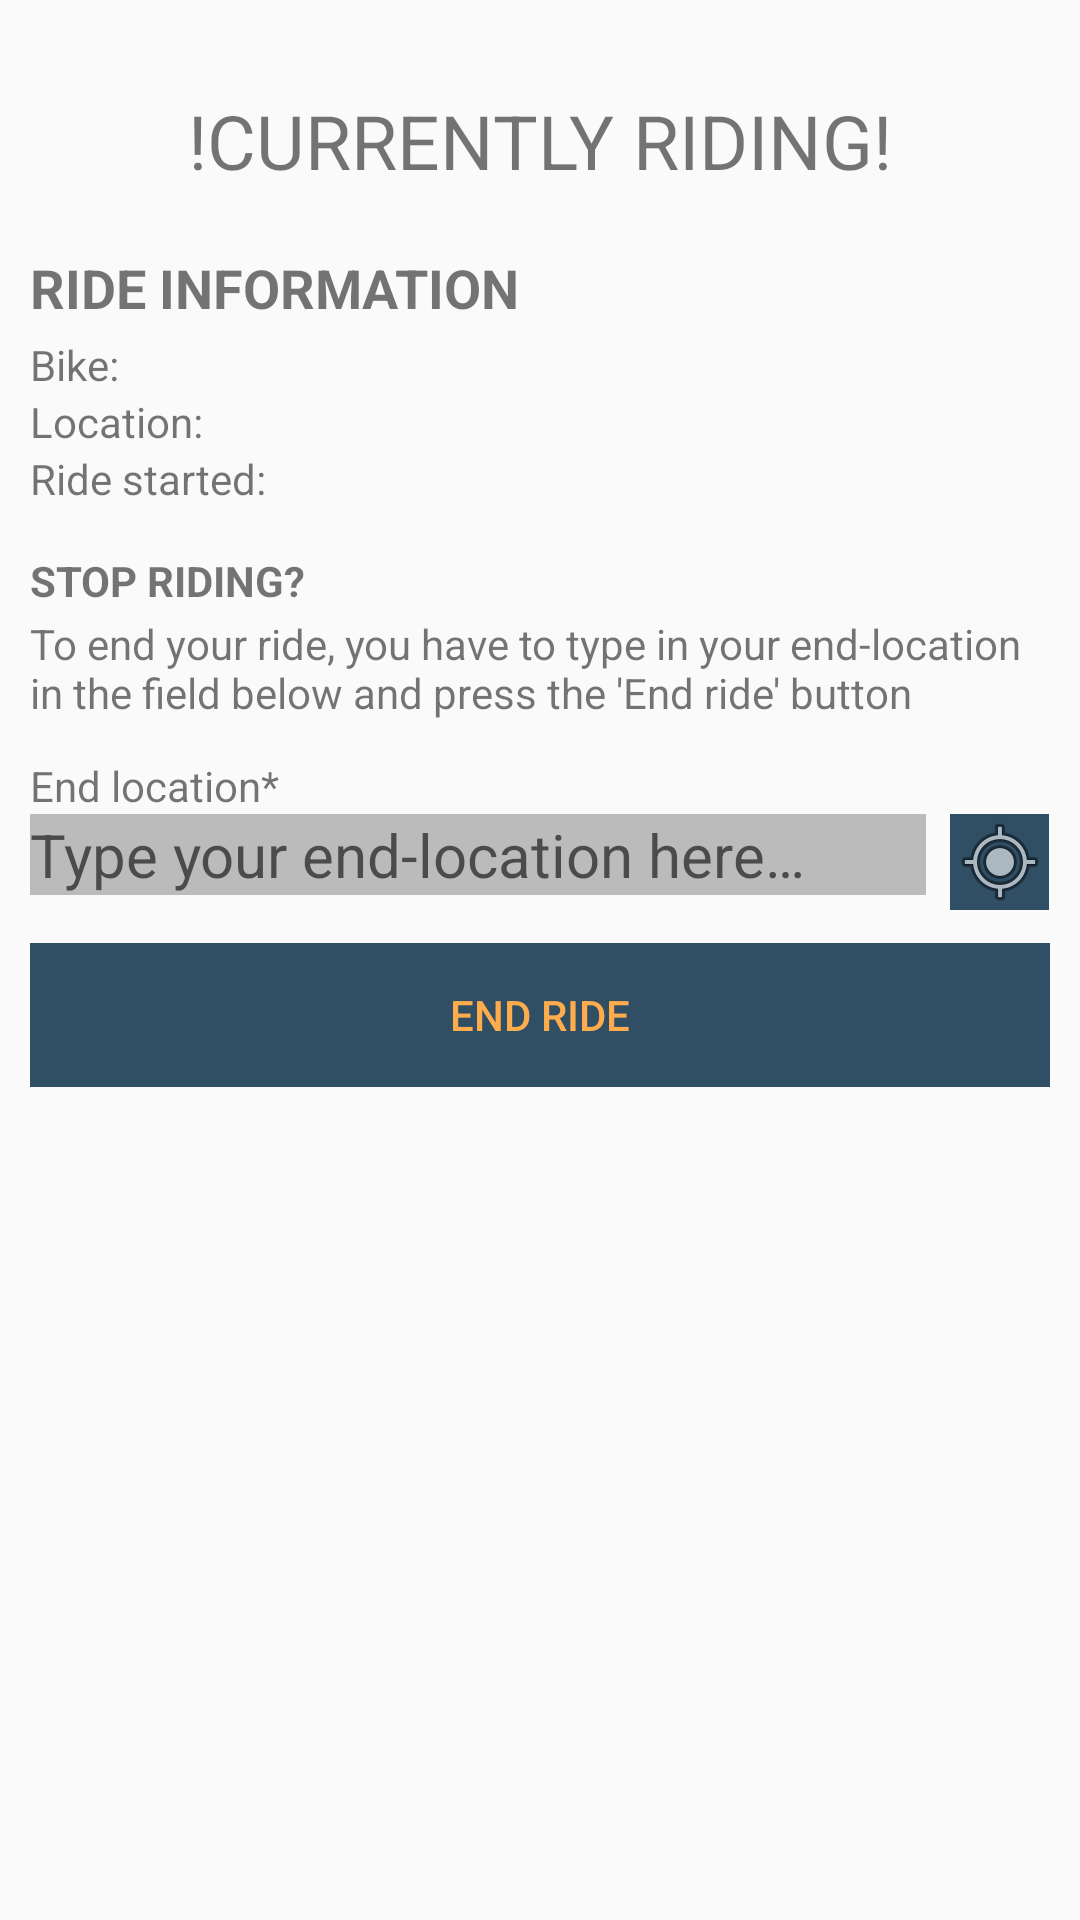

Icon bounding boxes for this 1080 x 1920 phone screenshot, format (x1, y1, x2, y2):
mylocation: (950, 814, 1049, 910)
